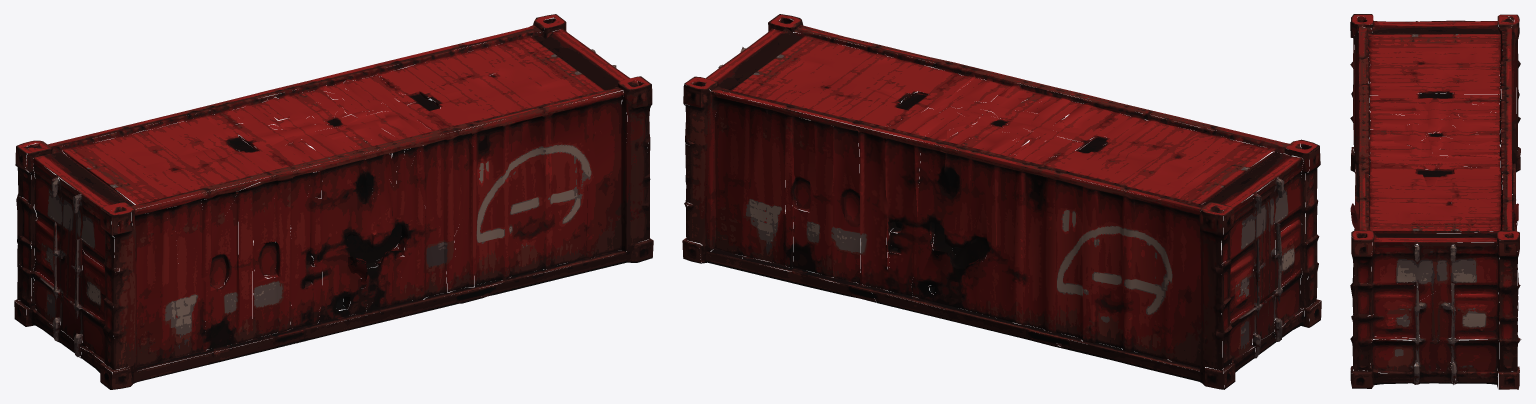
File: yd_container_1.glb
3 views of the same model, side by side, from view 1: azimuth 30°, elevation 25°; view 2: azimuth 150°, elevation 25°; view 3: azimuth 270°, elevation 25° (orthographic). The views are drawn at different scales.
Visible parts, largest first — view 1: yd_container_1; view 2: yd_container_1; view 3: yd_container_1.
Part boxes in pixels (box(x1,y1,x2,y2)): yd_container_1: box(14, 14, 653, 389); yd_container_1: box(682, 14, 1321, 389); yd_container_1: box(1350, 14, 1521, 389).
Bounding box in the file's own units: 7 × 2.15 × 2.24.
Materials: 1 (1 with a texture image).
